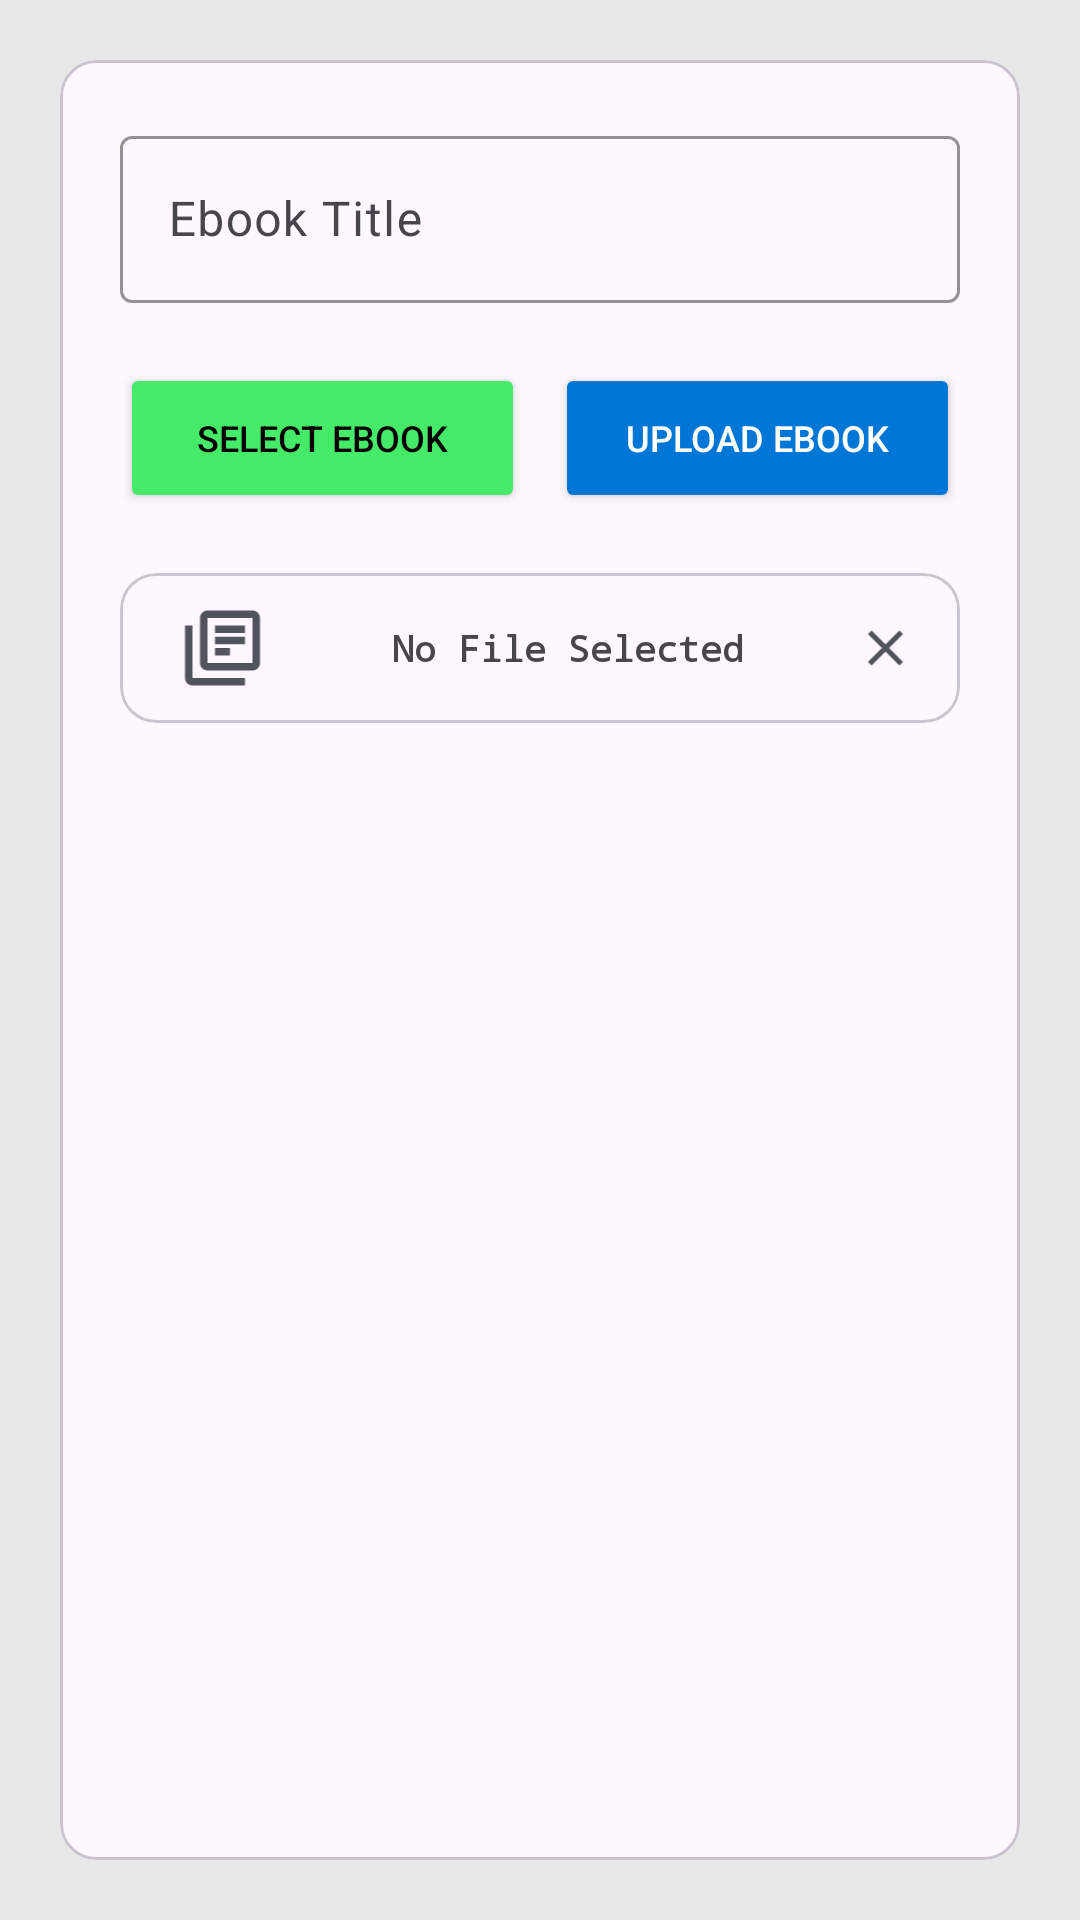

Screen size 1080 × 1920. Icon name, then its center in pixels as (x=x, y=y):
close: (x=885, y=648)
